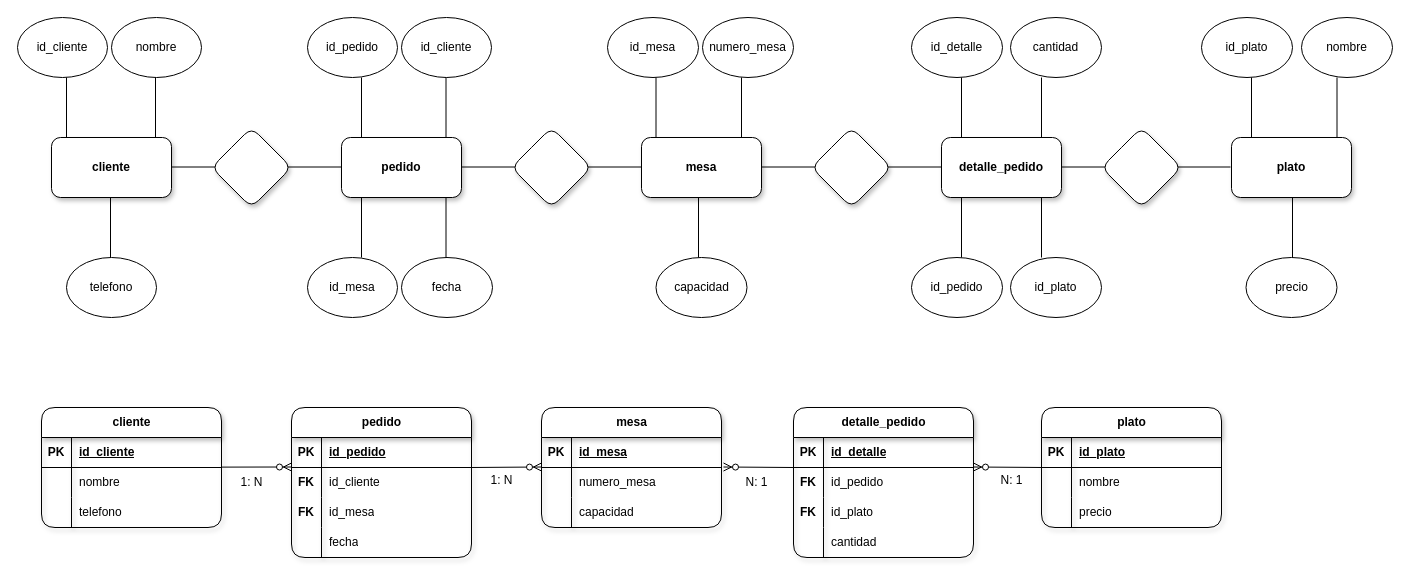
The diagram is 1410 pixels wide and 582 high, and some of its shapes have lost their labels. Here are the shapes that lost their labels. From the top down, the centre of each, then its label:
At [252,168]: "hace".
At [552,168]: "a la".
At [852,168]: "tiene".
At [1142,168]: "contiene".
